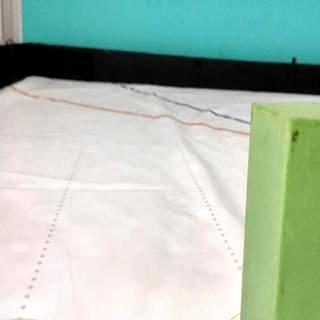greenbox: (241, 101, 320, 320)
